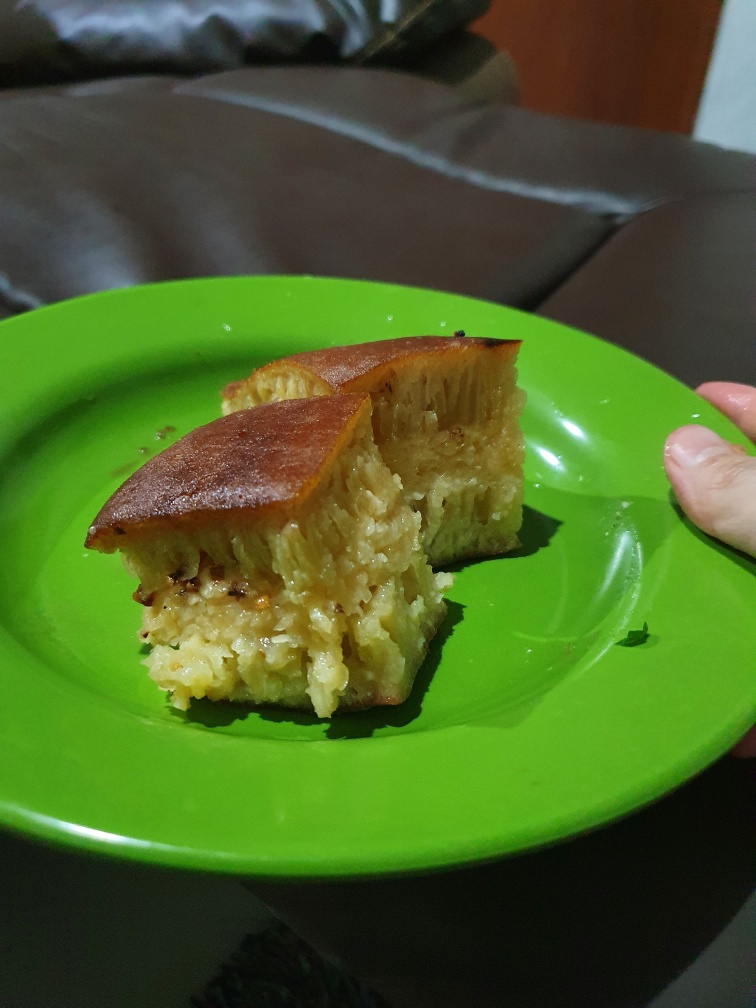martabak manis: (85, 395, 451, 715), (212, 302, 553, 582)
